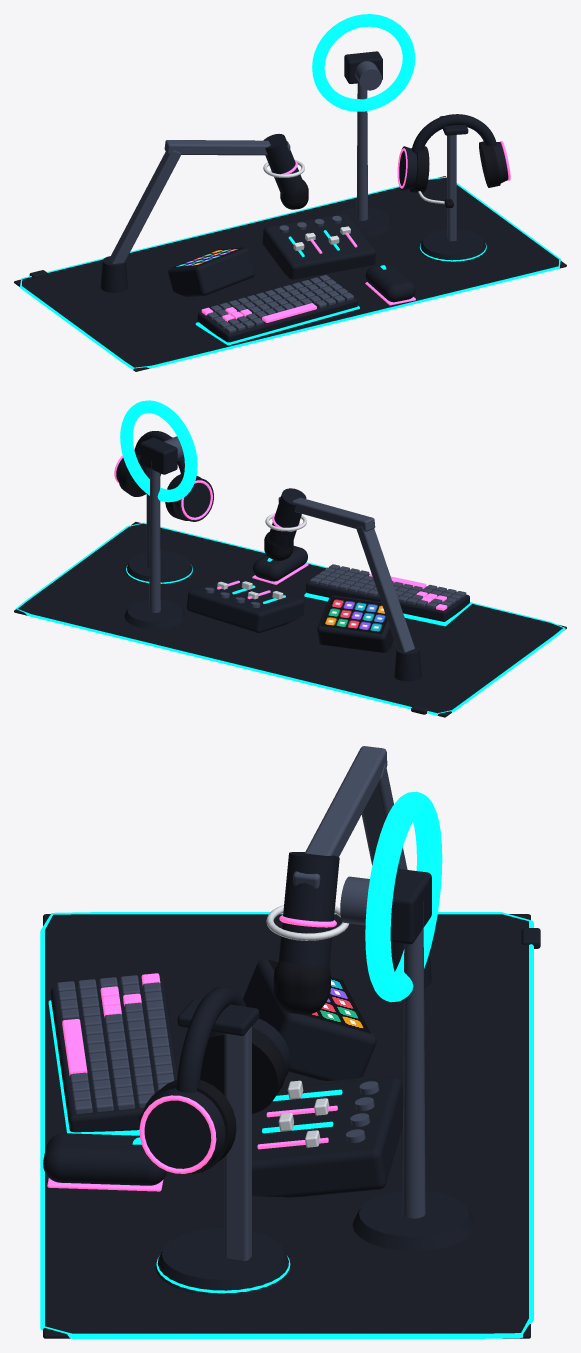
The model's file is atelier-gaming-loadout-streamer-cyber.glb.
3 renders of one model, top to bottom at view 1: azimuth 30°, elevation 25°; view 2: azimuth 150°, elevation 25°; view 3: azimuth 270°, elevation 25°, orthographic. The views are drawn at different scales.
Parts seen in each view (by area): view 1: object 1, object 13, object 28, object 2, object 11, object 5, object 101, object 31, object 6, object 26, object 8, object 98 (+11 smaller); view 2: object 1, object 13, object 28, object 2, object 5, Gaming macro key display, object 11, object 26, object 31, object 101, object 27, object 6 (+9 smaller); view 3: object 1, object 13, object 28, object 2, object 11, object 101, object 26, object 103, object 27, object 98, object 31, object 8 (+16 smaller).
Part boxes in pixels (<box>): object 1: <box>14,176,566,371</box>; object 13: <box>262,213,375,279</box>; object 28: <box>312,14,415,111</box>; object 2: <box>19,177,560,369</box>; object 11: <box>168,248,254,296</box>; object 5: <box>109,150,181,263</box>; object 101: <box>419,229,486,262</box>; object 31: <box>197,279,357,342</box>; object 6: <box>164,140,290,155</box>; object 26: <box>356,83,368,220</box>; object 8: <box>263,134,302,194</box>; object 98: <box>365,264,415,302</box>; object 1: <box>14,522,566,717</box>; object 13: <box>187,577,304,633</box>; object 28: <box>120,400,197,502</box>; object 2: <box>15,522,565,715</box>; object 5: <box>356,526,414,652</box>; Gaming macro key display: <box>320,596,387,633</box>; object 11: <box>317,595,393,652</box>; object 26: <box>149,461,160,612</box>; object 31: <box>306,574,469,621</box>; object 101: <box>125,551,193,585</box>; object 27: <box>124,599,185,629</box>; object 6: <box>278,496,375,531</box>; object 1: <box>43,914,530,1338</box>; object 13: <box>252,1077,403,1197</box>; object 28: <box>365,791,442,1002</box>; object 2: <box>40,912,533,1338</box>; object 11: <box>243,960,376,1080</box>; object 101: <box>155,1228,291,1295</box>; object 26: <box>402,901,425,1218</box>; object 103: <box>224,1027,251,1260</box>; object 27: <box>352,1191,475,1251</box>; object 98: <box>43,1133,167,1185</box>; object 31: <box>50,977,177,1132</box>; object 8: <box>278,852,339,968</box>.
Size of the model in its own units: 0.9452 by 0.4531 by 0.4716.
Materials: 8 (1 with a texture image).
